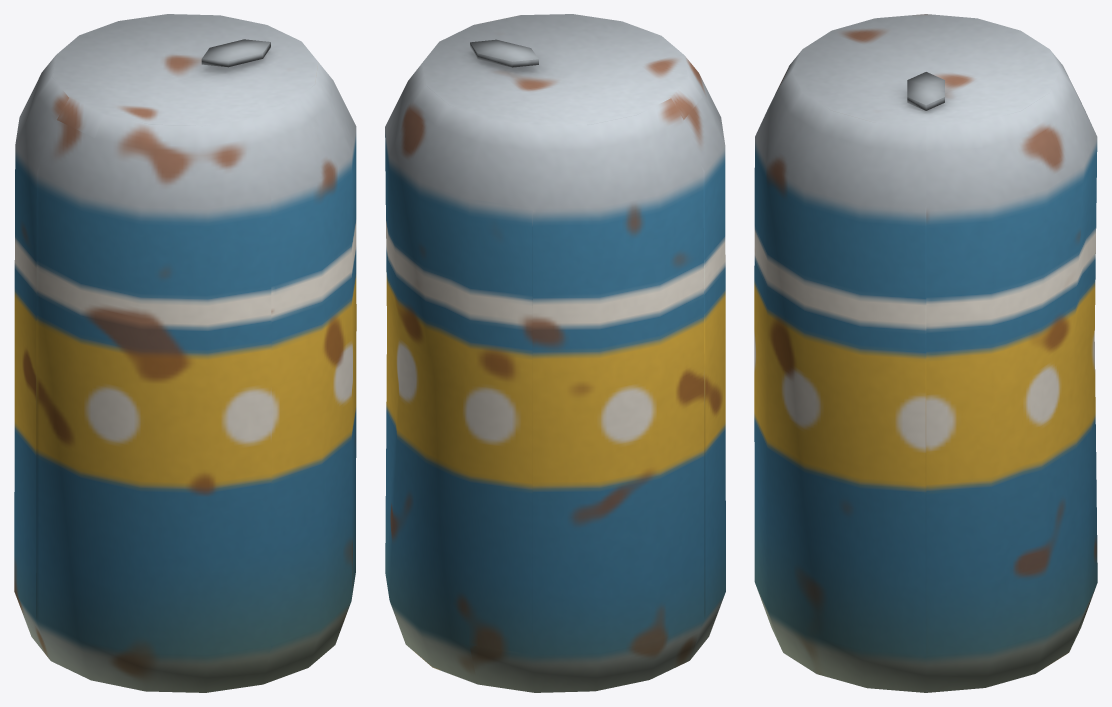
Rendered from Lata.fbx.
3 renders of one model, left to right at view 1: azimuth 30°, elevation 25°; view 2: azimuth 150°, elevation 25°; view 3: azimuth 270°, elevation 25°, orthographic.
Visible parts, largest first — view 1: Malla; view 2: Malla; view 3: Malla.
Part boxes in pixels (x1,y1,x2,y2): Malla: (14,14,356,692); Malla: (385,14,725,692); Malla: (754,14,1097,692).
Size of the model in its own units: 0.1646 by 0.3052 by 0.1642.
1 material, 1 textured.
